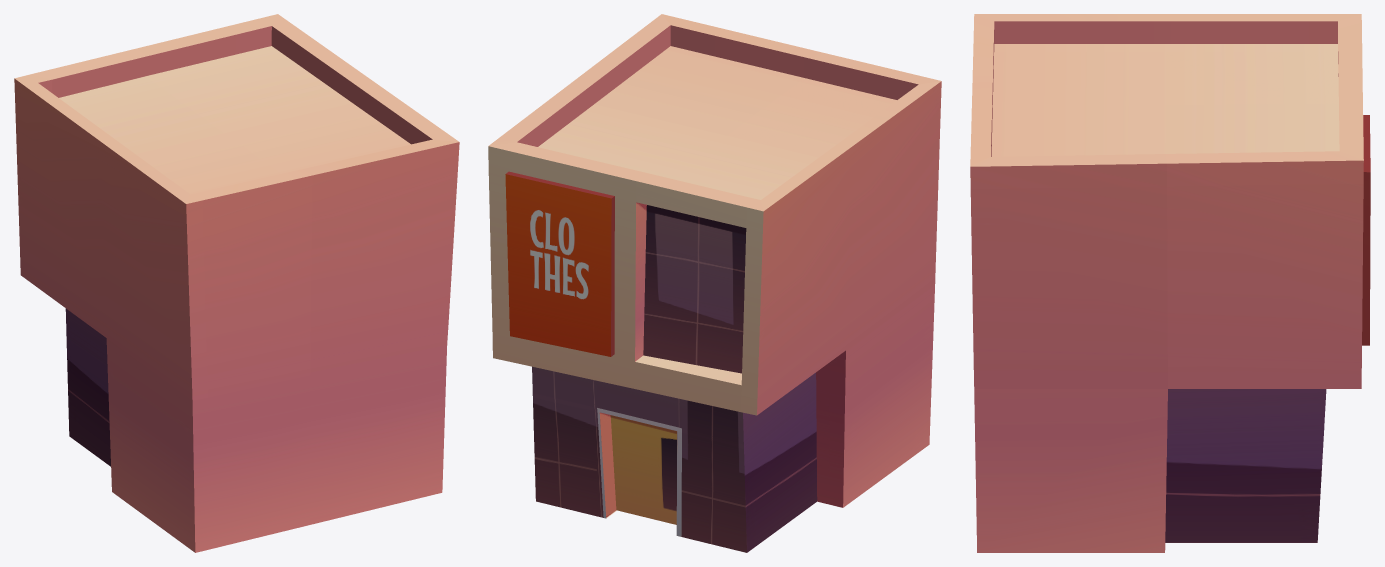
File: Building_03.FBX
The picture shows the model from 3 angles, left to right: view 1: azimuth 30°, elevation 25°; view 2: azimuth 150°, elevation 25°; view 3: azimuth 270°, elevation 25°; orthographic projection. The views are drawn at different scales.
Parts seen in each view (by area): view 1: Building_03; view 2: Building_03; view 3: Building_03.
Part boxes in pixels (x1,y1,x2,y2): Building_03: (14, 14, 459, 552); Building_03: (488, 14, 941, 552); Building_03: (970, 14, 1370, 552).
Size of the model in its own units: 837 by 1037 by 947.
